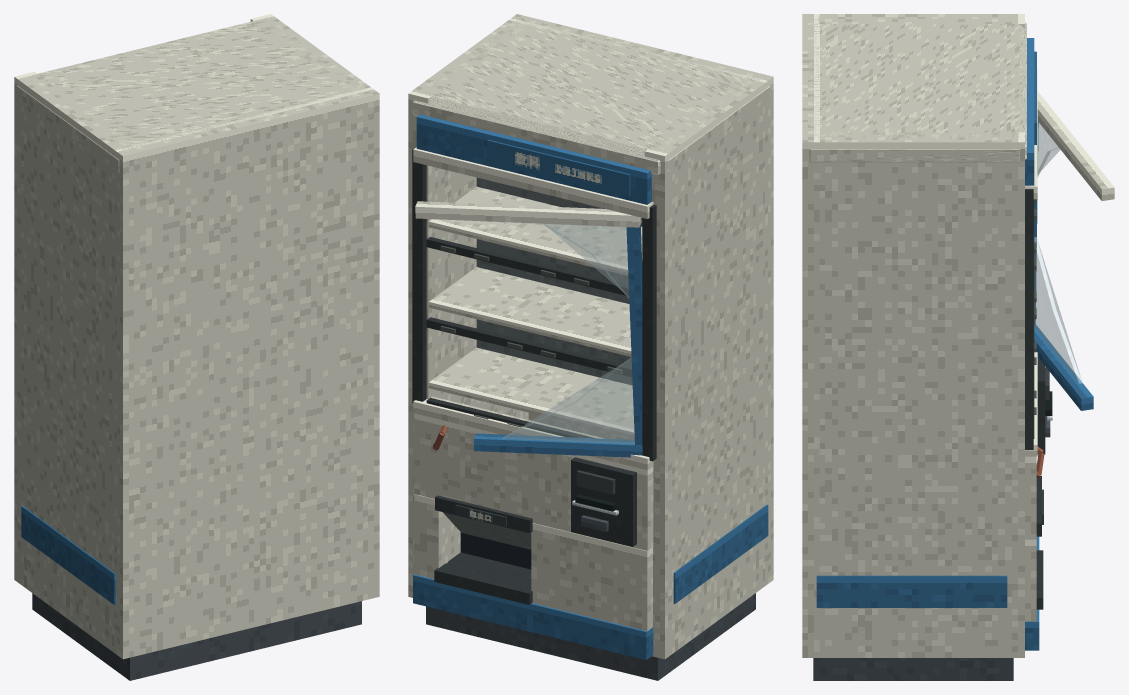
The model's file is f_vending_o.glb.
The picture shows the model from 3 angles, left to right: view 1: azimuth 30°, elevation 25°; view 2: azimuth 150°, elevation 25°; view 3: azimuth 270°, elevation 25°; orthographic projection. The views are drawn at different scales.
Parts seen in each view (by area): view 1: block_enamel-back, block_enamel-side (×2), block_rounded-enamel-cap, block_recessed-kickplate, block_painted-side-stripe; view 2: block_enamel-side (×2), block_rounded-enamel-cap, block_lower-service-panel, block_right-lower-return, block_sample-shelf-2, block_sample-shelf-1, block_enamel-back, block_display-rebate (×2), block_painted-bottom-band, block_sample-shelf-0, block_display-backlight-panel, block_recessed-kickplate (+22 smaller); view 3: block_enamel-side (×2), block_rounded-enamel-cap, block_enamel-back, block_painted-side-stripe, block_recessed-kickplate, block_jagged-lower-glass, block_display-rebate, block_hanging-top-frame, block_hanging-bottom-frame, block_header-colour-band, block_lower-service-panel, block_left-lower-return (+4 smaller).
Boxes of the visible parts, x1,y1,x2,y2 form: block_enamel-back: (114,87,379,659); block_enamel-side (×2): (14,14,370,652); block_rounded-enamel-cap: (16,17,367,172); block_recessed-kickplate: (32,593,361,680); block_painted-side-stripe: (21,506,115,604); block_enamel-side (×2): (408,20,765,659); block_rounded-enamel-cap: (412,19,770,175); block_lower-service-panel: (414,413,653,550); block_right-lower-return: (531,523,652,631); block_sample-shelf-2: (428,347,634,437); block_sample-shelf-1: (428,267,631,356); block_enamel-back: (509,14,773,585); block_display-rebate (×2): (412,146,656,461); block_painted-bottom-band: (413,574,653,659); block_sample-shelf-0: (428,186,642,275); block_display-backlight-panel: (476,177,642,385); block_recessed-kickplate: (426,593,755,680); block_enamel-side (×2): (818,14,1024,657); block_rounded-enamel-cap: (809,18,1026,162); block_enamel-back: (802,14,819,657); block_painted-side-stripe: (816,575,1007,607); block_recessed-kickplate: (813,658,1013,680); block_jagged-lower-glass: (1034,237,1082,383); block_display-rebate: (1025,189,1033,449); block_hanging-top-frame: (1037,91,1114,200); block_hanging-bottom-frame: (1034,324,1093,410); block_header-colour-band: (1025,38,1034,185); block_lower-service-panel: (1025,456,1036,539); block_left-lower-return: (1025,539,1036,621).
Bounding box in the file's own units: 0.951 × 1.86 × 0.9667.
2 materials, 2 textured.
